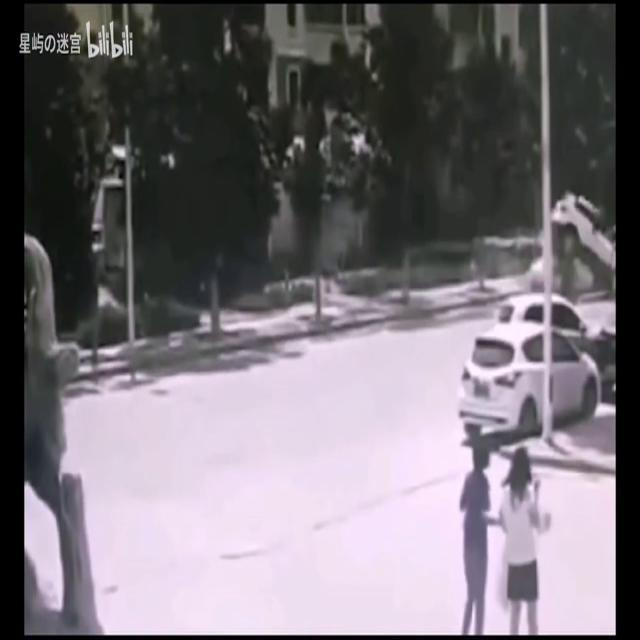multiple_accident: (393, 232, 640, 460)
